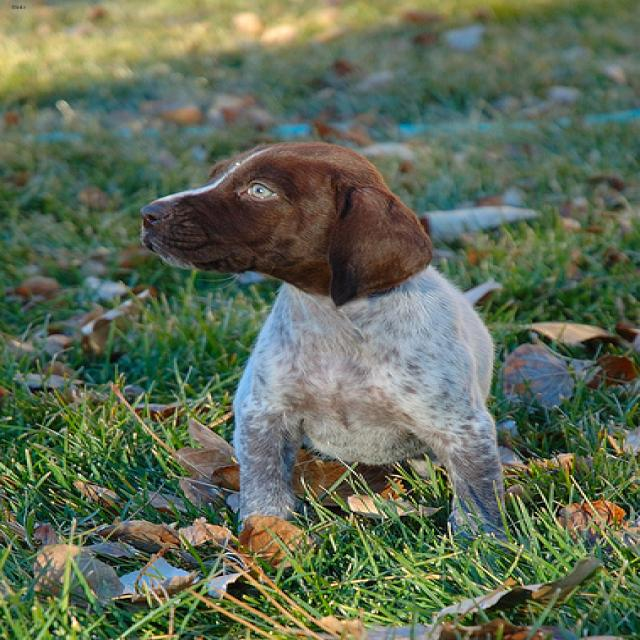dog-german_shorthaired: (122, 138, 544, 553)
